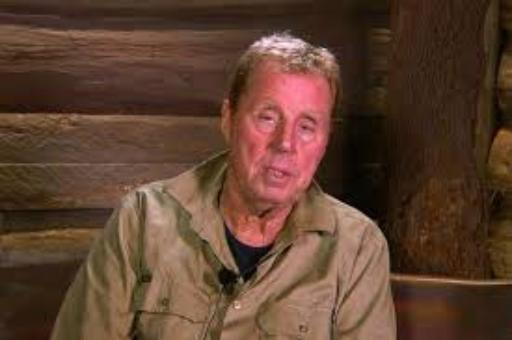left_eye: (299, 123, 318, 137)
right_eye: (256, 112, 278, 127)
